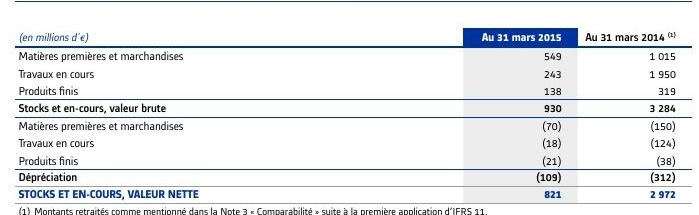table: (0, 0, 699, 215)
